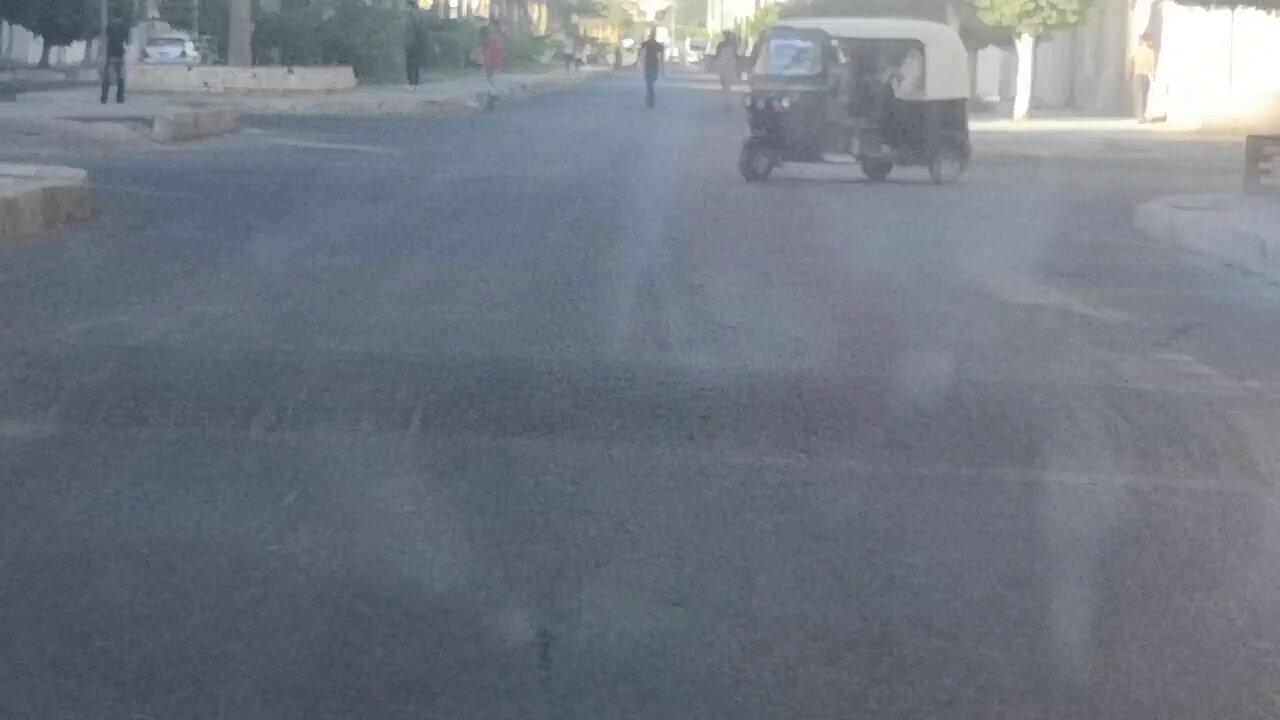Bump: (23, 330, 1268, 478)
